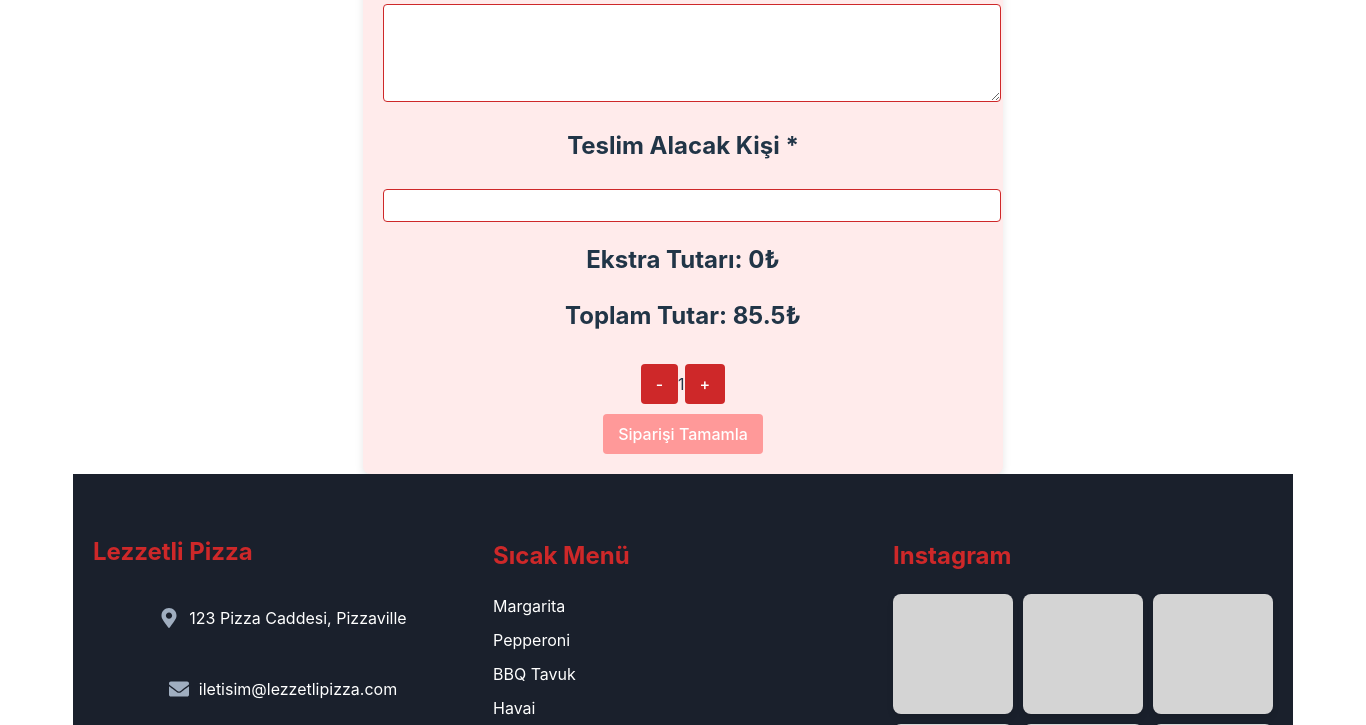
Test case: Sipariş Kontrol Formu Testleri › Pizza adedini azalttığında fiyatın doğru hesaplanmasını kontrol eder
This screenshot has width=1366, height=725.
(page scrolled)
What coordinates should you click on to do the following:
click the button "+"
I would click on:
 (706, 384)
Its box is [685,364,726,404].
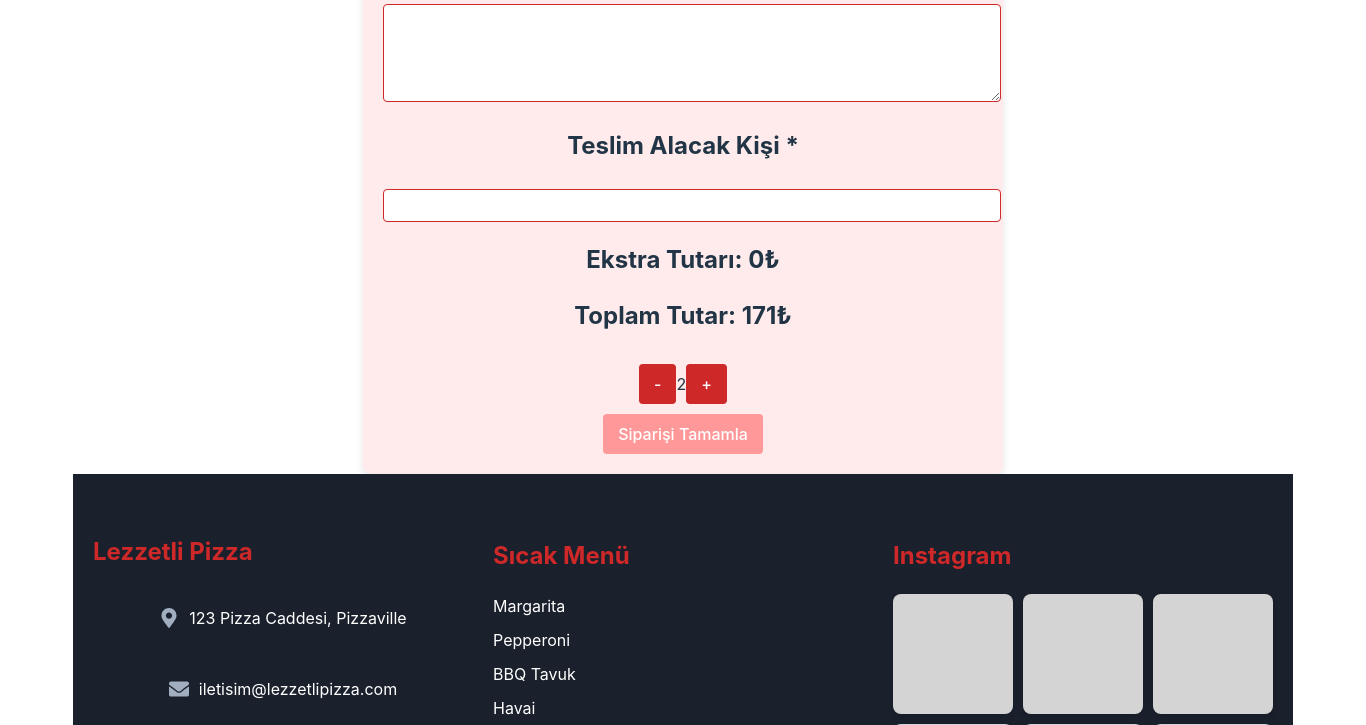
What coordinates should you click on to do the following:
click the button "-"
I would click on:
 (658, 384)
Its box is [639,364,676,404].
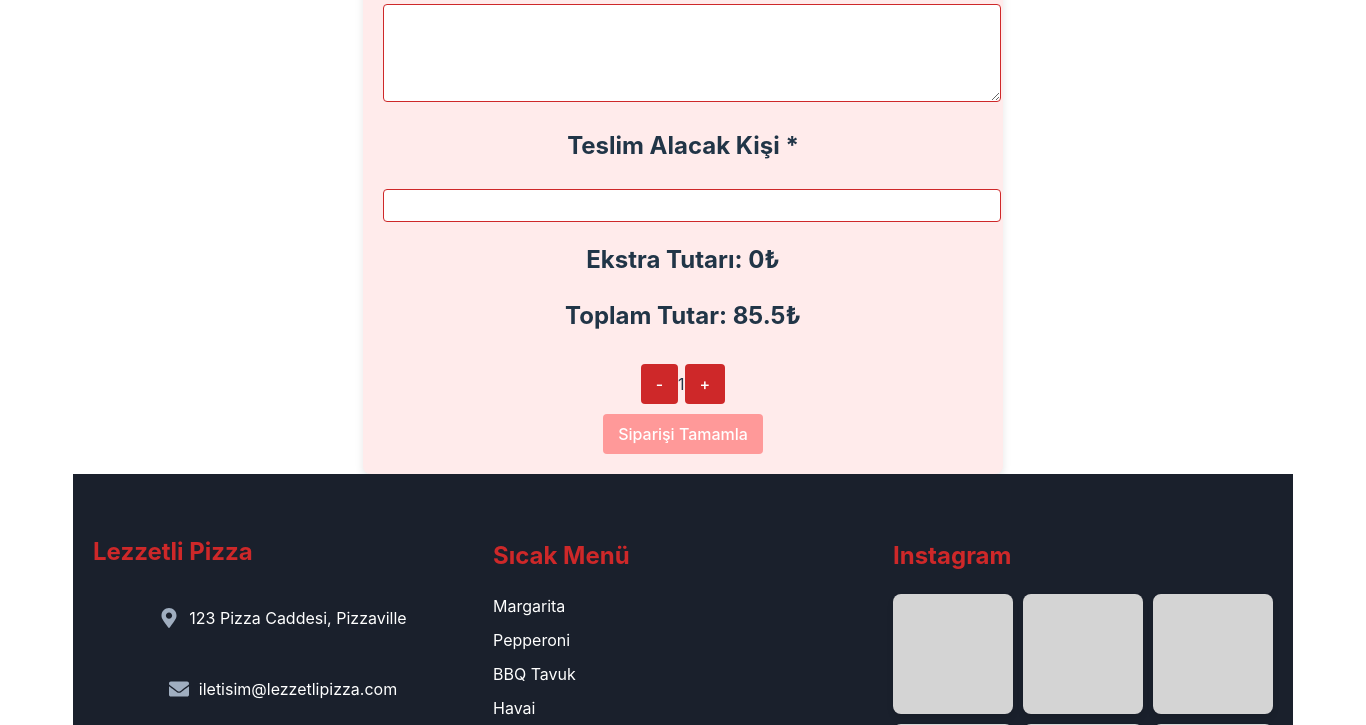
Check: the heading "Toplam Tutar: 85.5₺" is shown, box [565,301,801,330]
